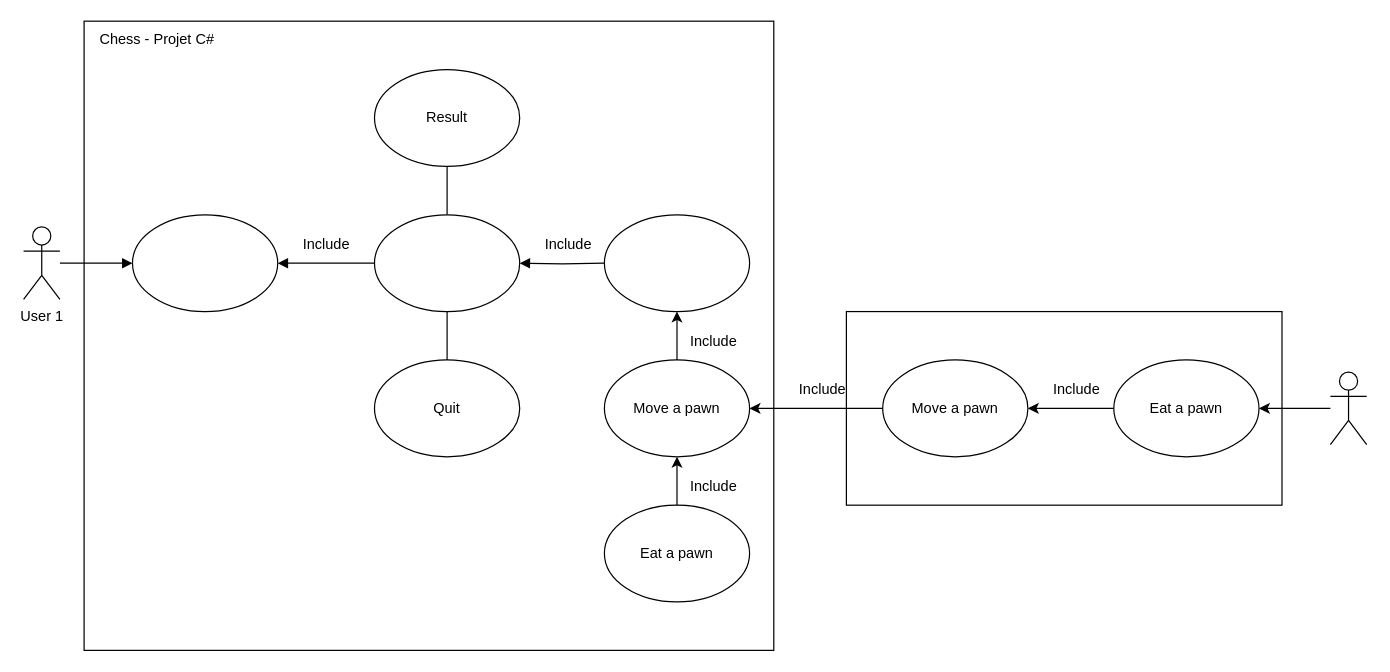
This 1390x672 diagram has some shape labels left out. The shapes that lost their labels are listed below. From the top down, each one's box as (x1, y1, x2, y2) in pixels, then its label:
(131, 214, 278, 312): Login
(373, 214, 520, 312): Menu
(603, 214, 750, 312): Play
(1329, 371, 1367, 445): User 2
